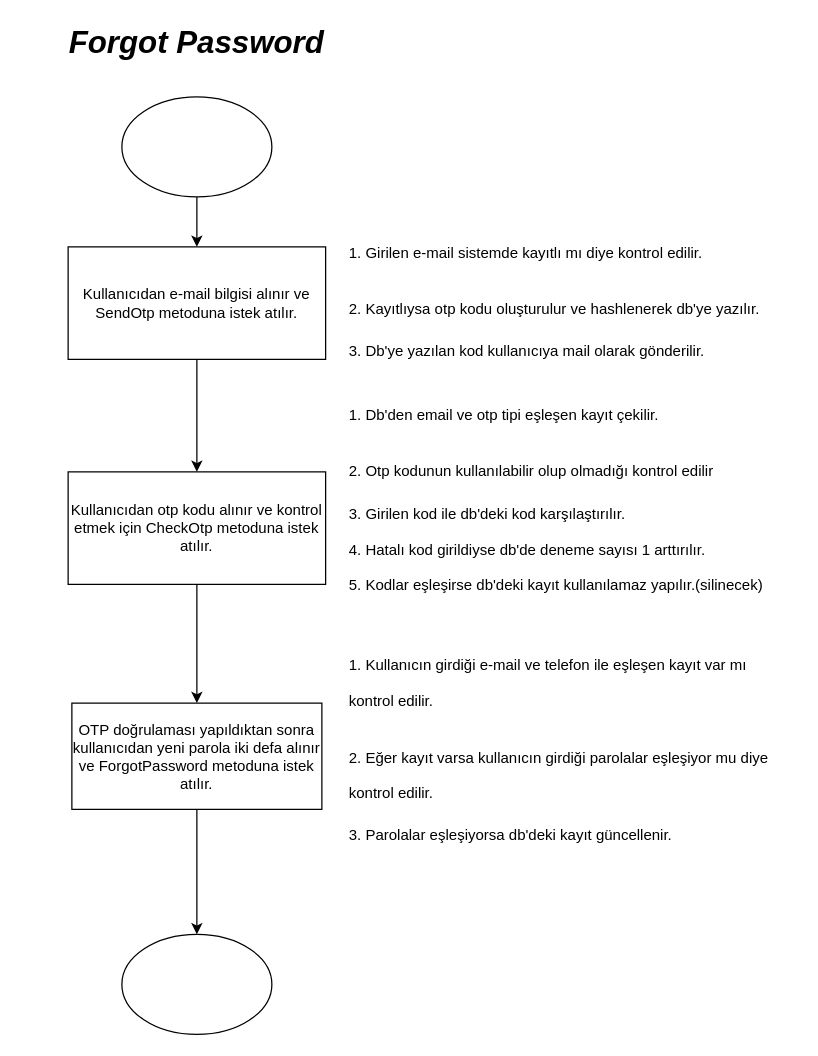
Some shapes in this 818 by 1056 pixel diagram are drawn without their labels. The shapes that lost their labels are listed below. From the top down, each one's centre as x and y in pixels, then its label:
At pixel 196 146: "Başla".
At pixel 196 983: "Bitiş".
